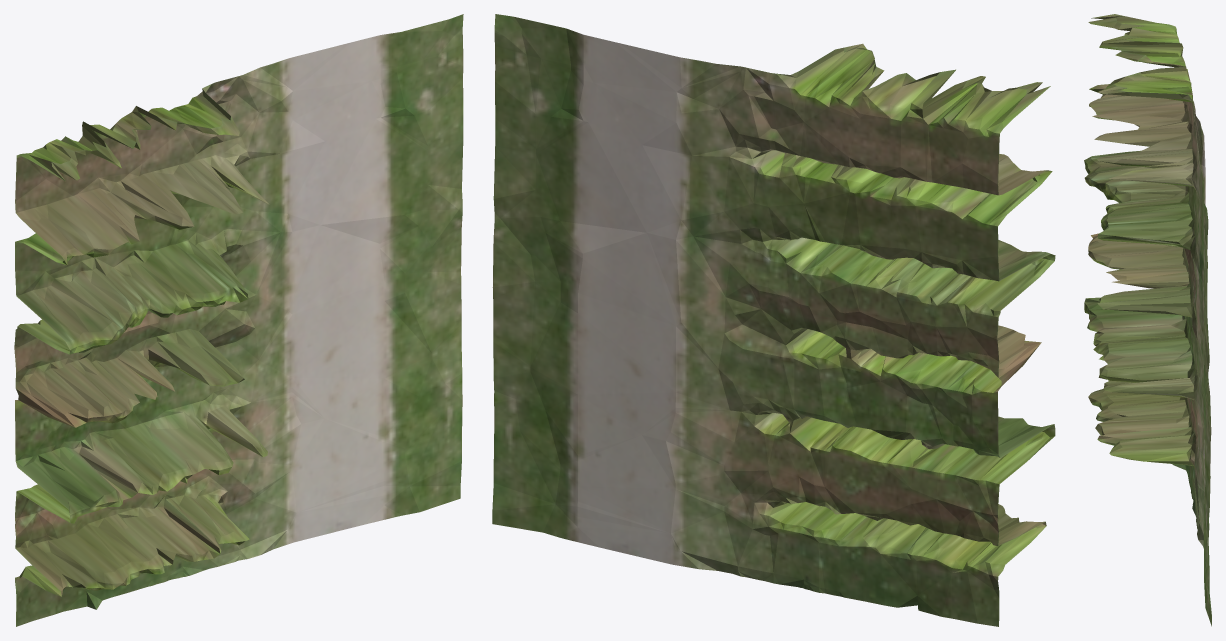
The model's file is map_240_80.obj.
3 views of the same model, side by side, from view 1: azimuth 30°, elevation 25°; view 2: azimuth 150°, elevation 25°; view 3: azimuth 270°, elevation 25° (orthographic). The views are drawn at different scales.
Visible parts, largest first — view 1: grp1; view 2: grp1; view 3: grp1.
Boxes of the visible parts, x1,y1,x2,y2 form: grp1: (14, 14, 463, 626); grp1: (492, 14, 1055, 626); grp1: (1084, 14, 1211, 626).
Bounding box in the file's own units: 10 × 10 × 2.77.
1 material, 1 textured.
